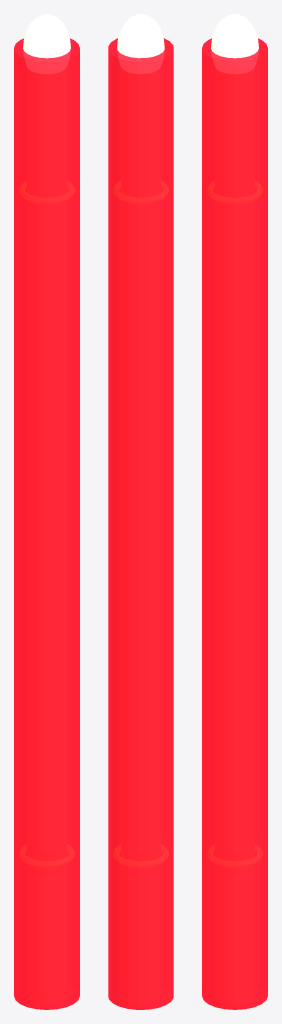
Rendered from laser_red_heavy.glb.
3 views of the same model, side by side, from view 1: azimuth 90°, elevation 25°; view 2: azimuth 210°, elevation 25°; view 3: azimuth 270°, elevation 25° (orthographic).
Visible parts, largest first — view 1: laser_red_heavy; view 2: laser_red_heavy; view 3: laser_red_heavy.
Part boxes in pixels (x1,y1,x2,y2): laser_red_heavy: [14, 14, 79, 1009]; laser_red_heavy: [108, 14, 173, 1009]; laser_red_heavy: [202, 14, 267, 1009].
Size of the model in its own units: 0.2145 by 3.52 by 0.2145.
